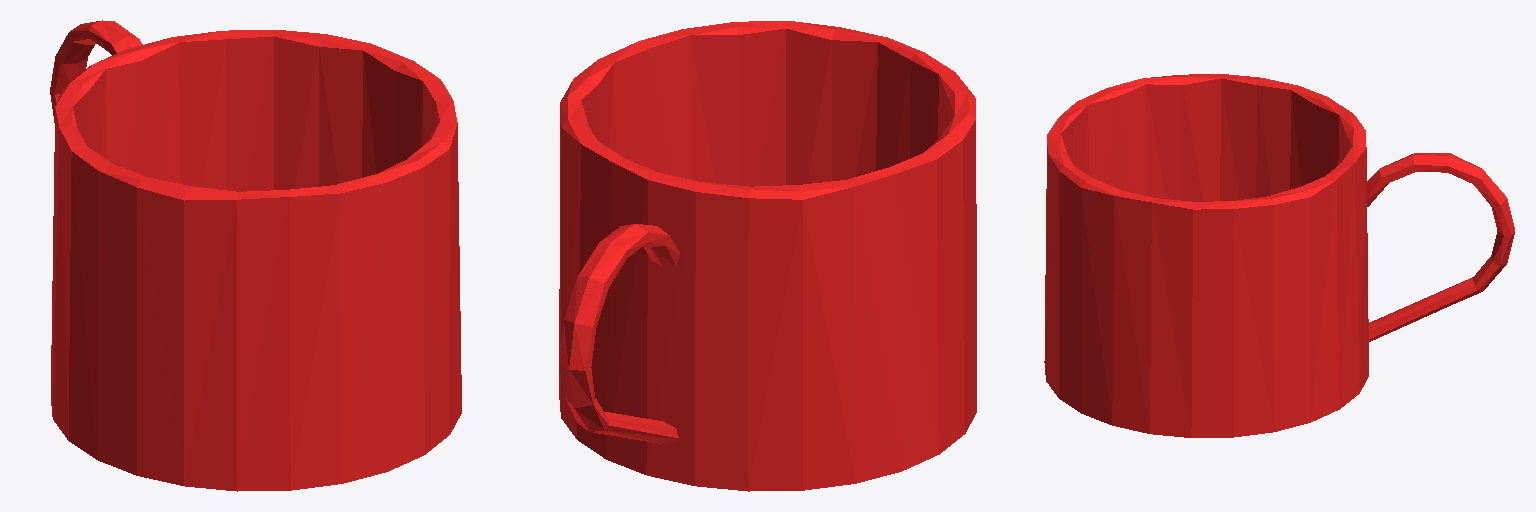
URDF robot description (mug):
<?xml version="0.0" ?>
<robot name="mug">
    <link concave="yes" name="base_link">
        <contact>
            <lateral_friction value="0.8"/>
            <!--rolling_friction value="0.3"/-->
            <!--spinning_friction value="0.3"/-->
        </contact>
        <inertial>
            <origin rpy="0 0 0" xyz="0. 0. 0."/>
            <mass value="0.1"/>
            <inertia ixx="1" ixy="0" ixz="0" iyy="1" iyz="0" izz="1"/>
        </inertial>
        <visual>
            <origin rpy="0 0 0" xyz="0. 0. 0."/>
            <geometry>
                <mesh filename="mug_simplified.stl" scale="1 1 1 "/>
            </geometry>
      <material name="mug">
        <color rgba="1 0.2 0.2 1"/>
        <specular rgb="1 1 1"/>
      </material>
        </visual>
        <collision concave="yes">
            <origin rpy="0 0 0" xyz="0. 0. 0."/>
            <geometry>
                <mesh filename="mug_simplified.stl" scale="1 1 1 "/>
            </geometry>
        </collision>
    </link>
</robot>

--- Render facts (derived) ---
3 views of the same robot in one strip: view 1: azimuth 30°, elevation 25°; view 2: azimuth 150°, elevation 25°; view 3: azimuth 270°, elevation 25° (orthographic).
Model mug with 1 links and 0 joints (none), rooted at base_link, posed all joints at 0.
Visible links, largest first — view 1: base_link; view 2: base_link; view 3: base_link.
Boxes of the visible links, x1,y1,x2,y2 form: base_link: (50, 20, 461, 491); base_link: (559, 21, 976, 491); base_link: (1044, 74, 1514, 437).
Bounding box of the posed robot: 0.1655 × 0.2401 × 0.13 m (x, y, z).
1 mesh visuals loaded from 1 distinct referenced files (1 binary STL).